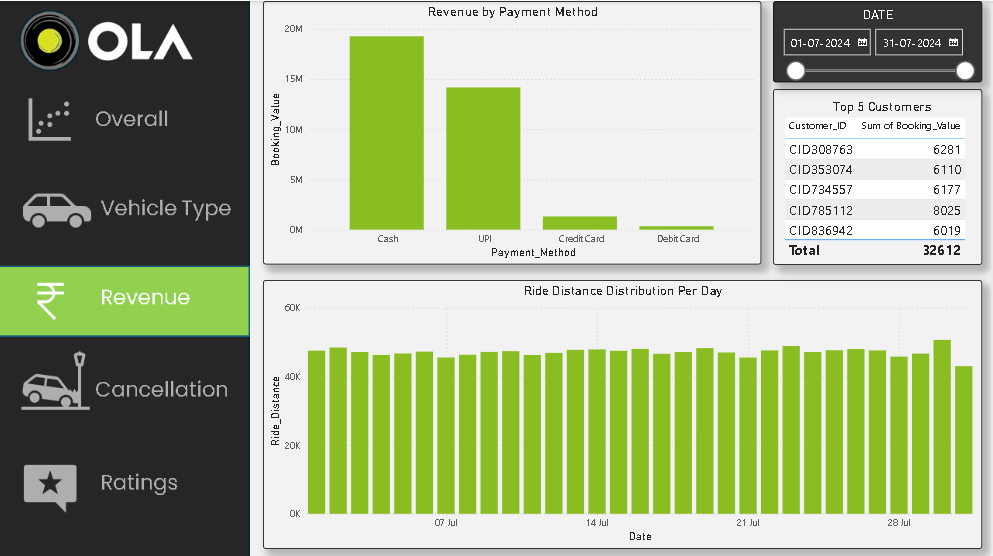

The dashboard page shown, as its layout file describes it:
{"tool":"powerbi","page":{"name":"Revenue","canvas":[1280,720],"ordinal":2},"visuals":[{"type":"actionButton","box":[0,447.9,324.6,87.9],"z":0},{"type":"actionButton","box":[0,226.8,324.6,87.9],"z":1000},{"type":"actionButton","box":[0,113.4,324.6,87.9],"z":2000},{"type":"actionButton","box":[0,583.9,324.6,87.9],"z":3000},{"type":"columnChart","title":"Revenue by Payment Method","fields":{"Y":["Sum(July.Booking_Value)"],"Category":["July.Payment_Method"]},"box":[340,0,643.3,340],"z":4000},{"type":"columnChart","title":"Ride Distance Distribution Per Day","fields":{"Y":["Sum(July.Ride_Distance)"],"Category":["July.Date"]},"box":[340,360,928.3,346.7],"z":5000},{"type":"slicer","title":"DATE","fields":{"Values":["July.Date"]},"box":[998.3,0,270,105],"z":6000},{"type":"tableEx","title":"Top 5 Customers","fields":{"Values":["July.Customer_ID","Sum(July.Booking_Value)"]},"box":[998.3,113.3,270,226.7],"z":7000}]}

Visuals, with their boxes in screenshot pixels (x1, y1, x2, y2), scaled from the page's 1280x720 canvas onto the 993x556 screenshot:
actionButton: bbox(0, 346, 252, 414)
actionButton: bbox(0, 175, 252, 243)
actionButton: bbox(0, 88, 252, 155)
actionButton: bbox(0, 451, 252, 519)
"Revenue by Payment Method" columnChart: bbox(264, 0, 763, 263)
"Ride Distance Distribution Per Day" columnChart: bbox(264, 278, 984, 546)
"DATE" slicer: bbox(774, 0, 984, 81)
"Top 5 Customers" tableEx: bbox(774, 87, 984, 263)
